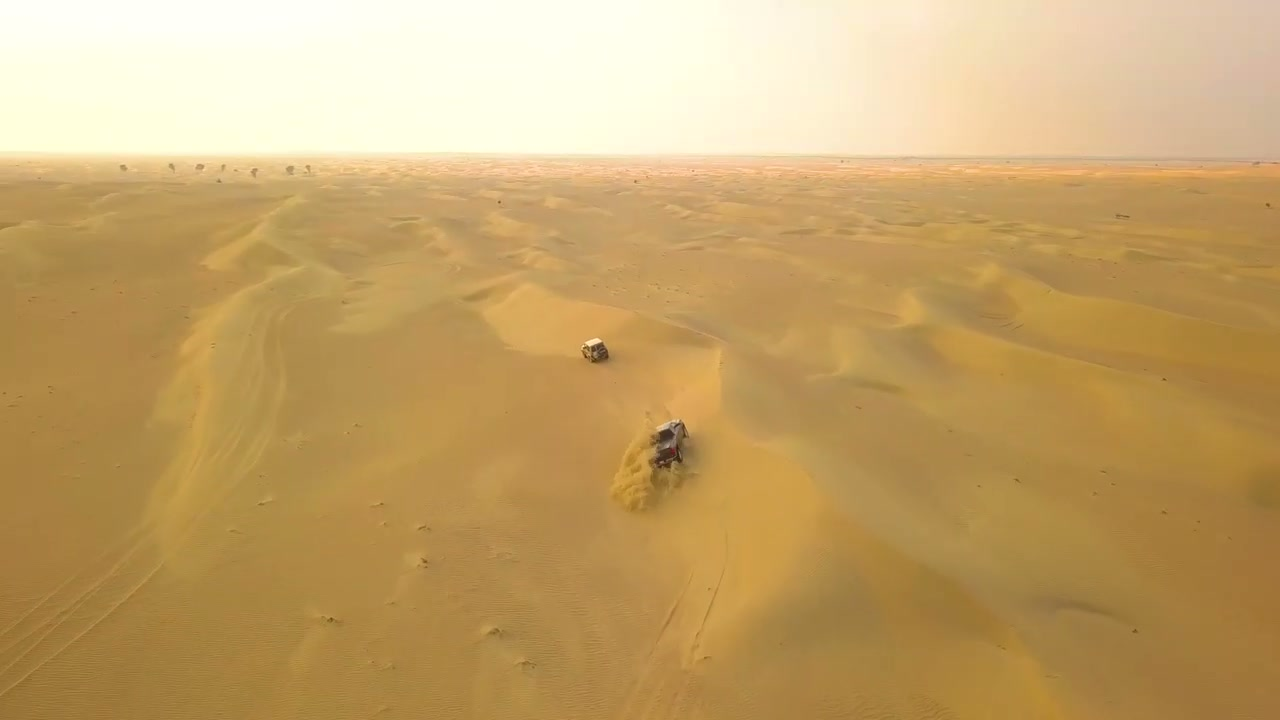vehicle_track: (0, 282, 304, 697), (631, 464, 740, 719)
